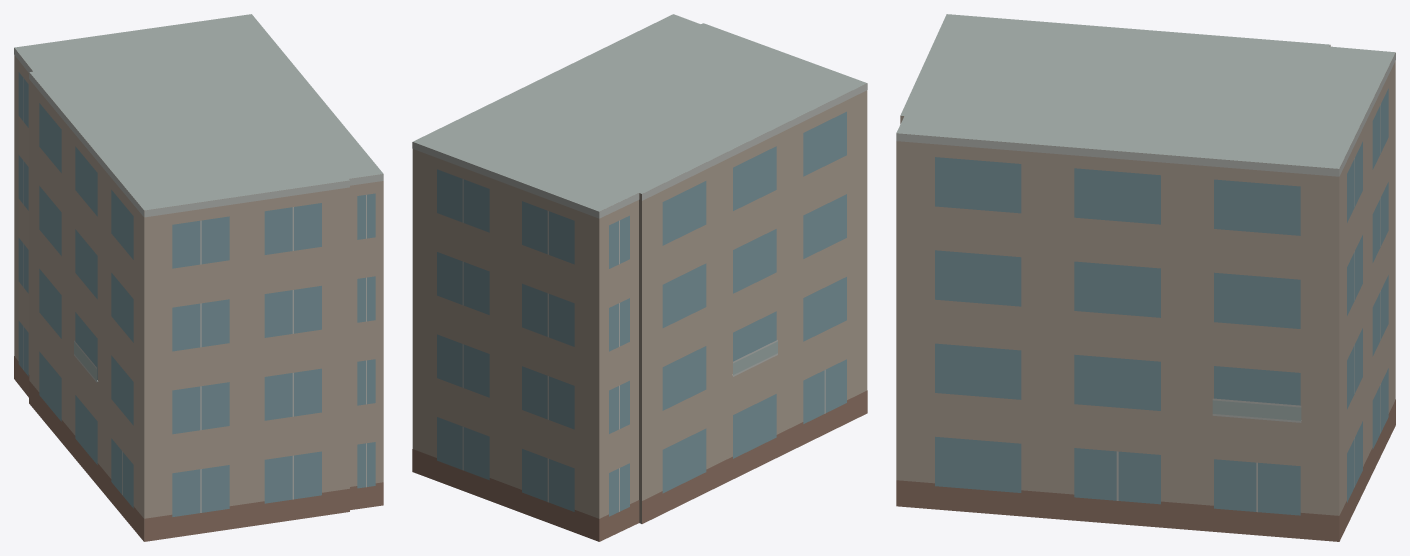
Rendered from survey-upis-32528290.glb.
The picture shows the model from 3 angles, left to right: view 1: azimuth 30°, elevation 25°; view 2: azimuth 150°, elevation 25°; view 3: azimuth 270°, elevation 25°; orthographic projection. The views are drawn at different scales.
Parts seen in each view (by area): view 1: survey-upis-32528290.tmp; view 2: survey-upis-32528290.tmp; view 3: survey-upis-32528290.tmp.
Boxes of the visible parts, left/top/right/bottom form: survey-upis-32528290.tmp: left=14, top=14, right=383, bottom=541; survey-upis-32528290.tmp: left=412, top=14, right=867, bottom=541; survey-upis-32528290.tmp: left=896, top=14, right=1395, bottom=541.
Bounding box in the file's own units: 10.34 × 11.6 × 14.09.
